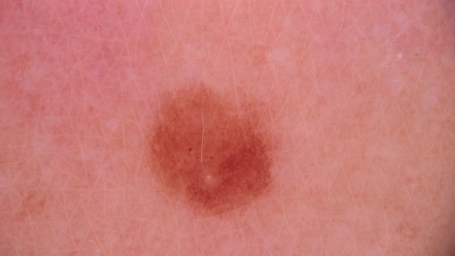seborrheic keratosis: (136, 66, 286, 227)
